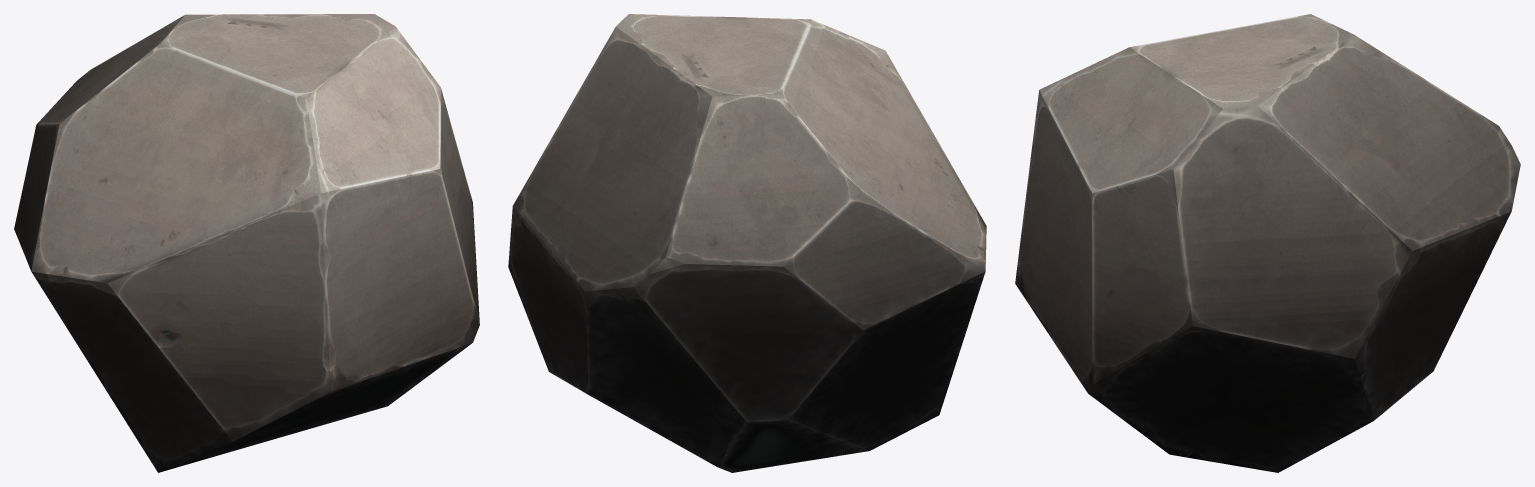
Rendered from berg6.glb.
3 views of the same model, side by side, from view 1: azimuth 30°, elevation 25°; view 2: azimuth 150°, elevation 25°; view 3: azimuth 270°, elevation 25° (orthographic). The views are drawn at different scales.
Visible parts, largest first — view 1: M_Rock_02; view 2: M_Rock_02; view 3: M_Rock_02.
Part boxes in pixels (x1,y1,x2,y2): M_Rock_02: (14,14,479,472); M_Rock_02: (508,14,986,472); M_Rock_02: (1015,14,1520,472).
Bounding box in the file's own units: 1.71 × 1.5 × 1.73.
1 material, 1 textured.
